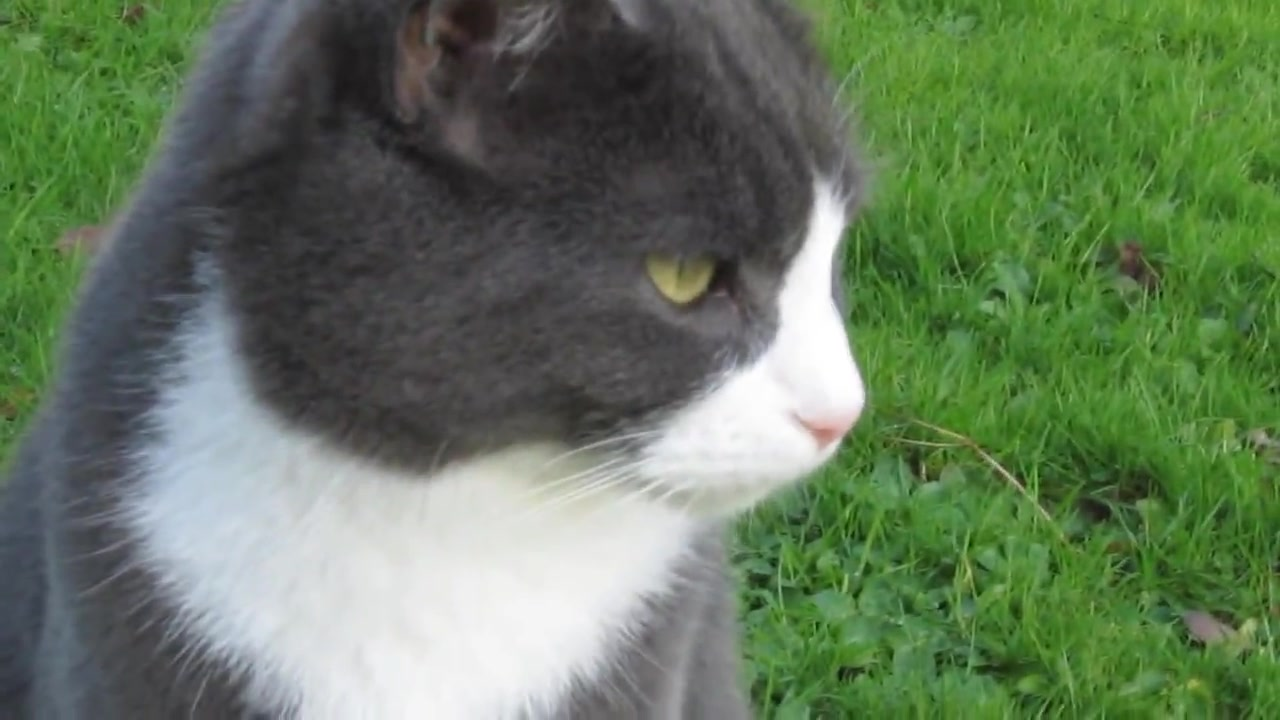cat: (1, 5, 879, 720)
